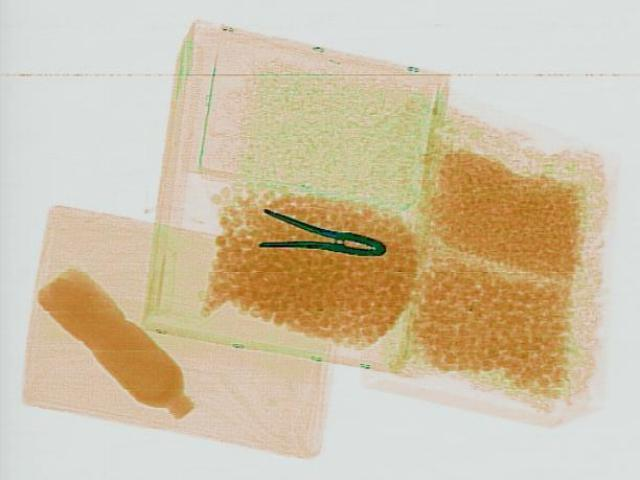Pliers: (247, 206, 391, 268)
